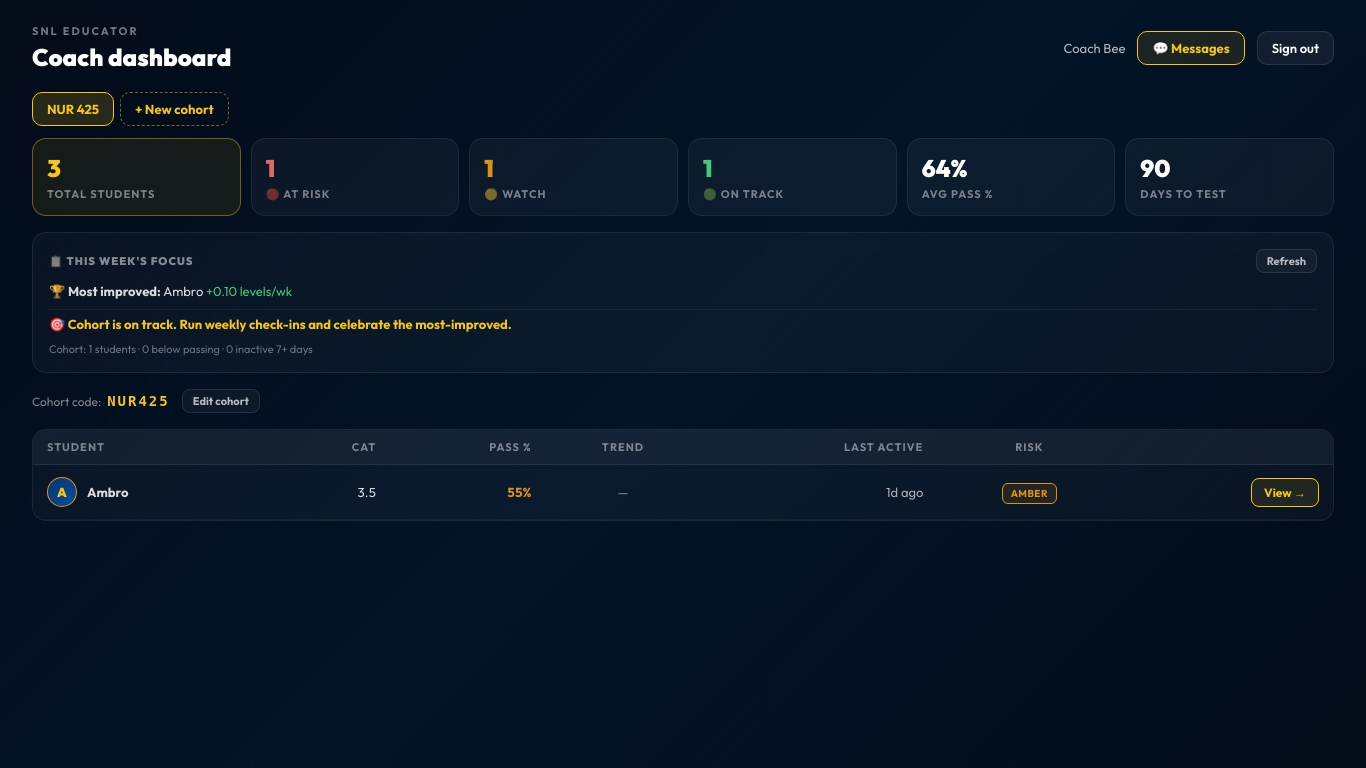
it: CoachDashboard › clicking View opens the student detail panel
The image size is (1366, 768).
What coordinates should you click on to do the following:
click the button with test id "view-s1"
I would click on:
 (1285, 492)
Its box is [1251,478,1319,506].
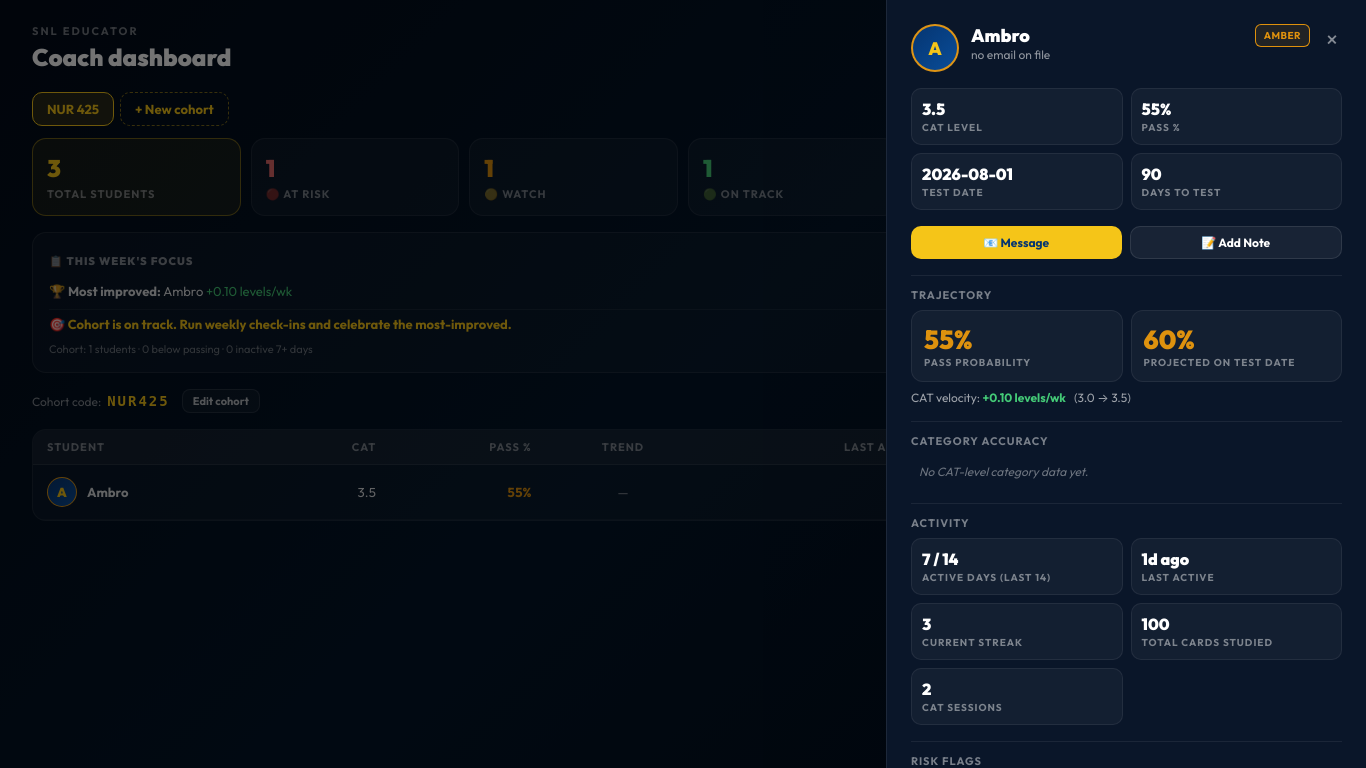
Check: the element with test id "student-detail-panel" is shown, box [886,0,1365,767]
